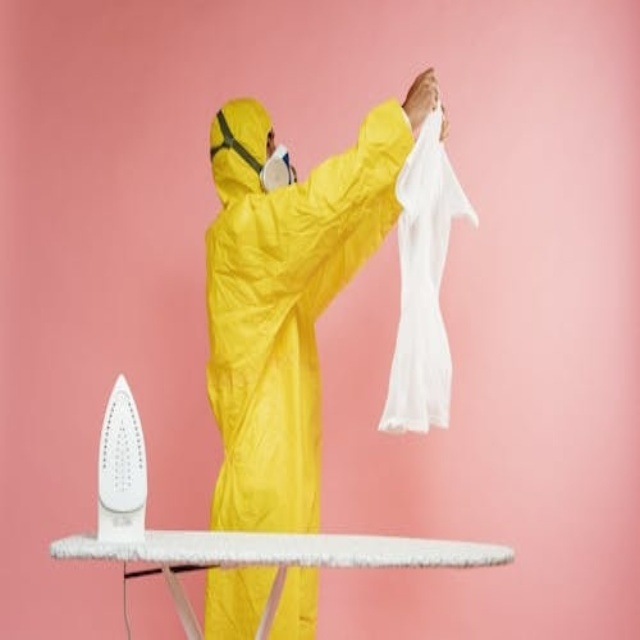Mascara: (261, 144, 295, 194)
Sin_guantes: (402, 67, 445, 141)
